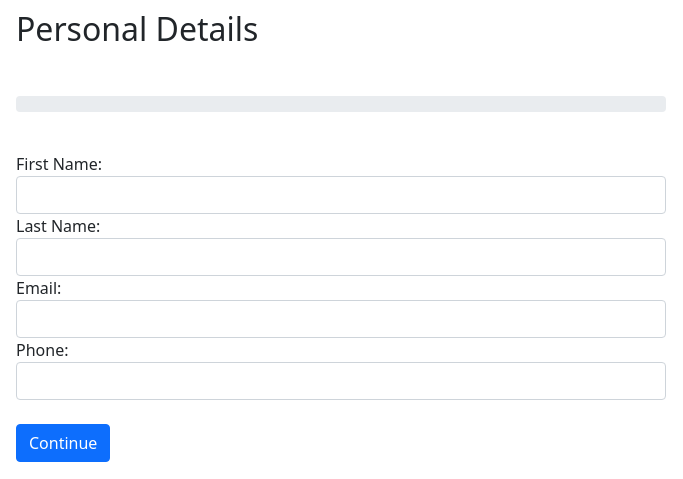
Test: page 1 success
Type "Jerry" into the field with test id "firstname-input" at [341, 195], box 16,176 -> 666,214
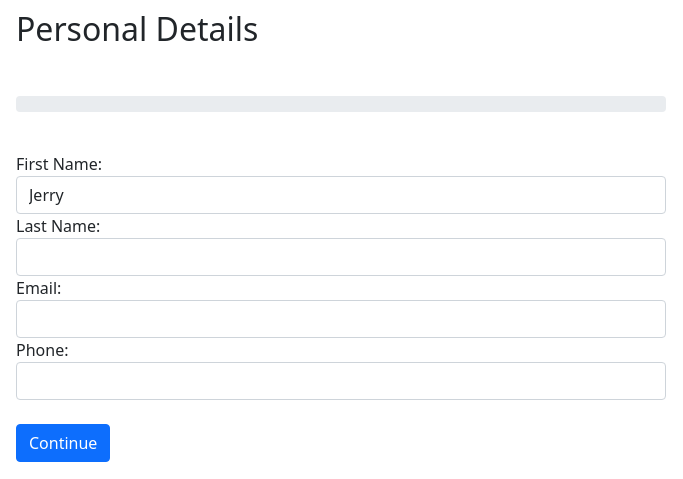
Type "Jones" into the field with test id "lastname-input" at [341, 257], box 16,238 -> 666,276
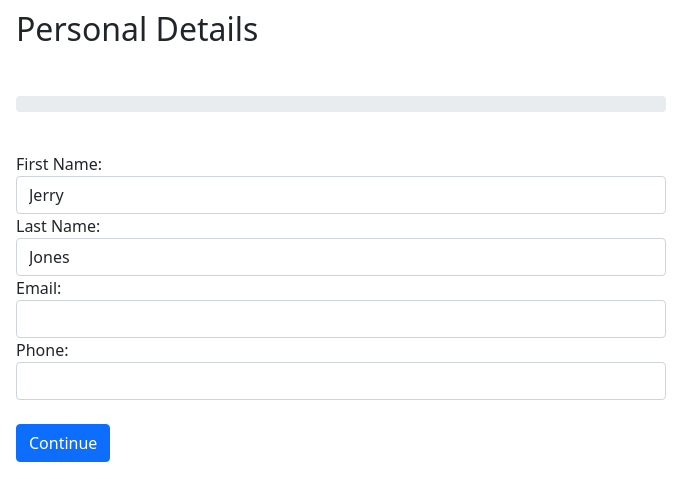
Type "jerry.jones@aabb.com" into the field with test id "email-input" at [341, 319], box 16,300 -> 666,338
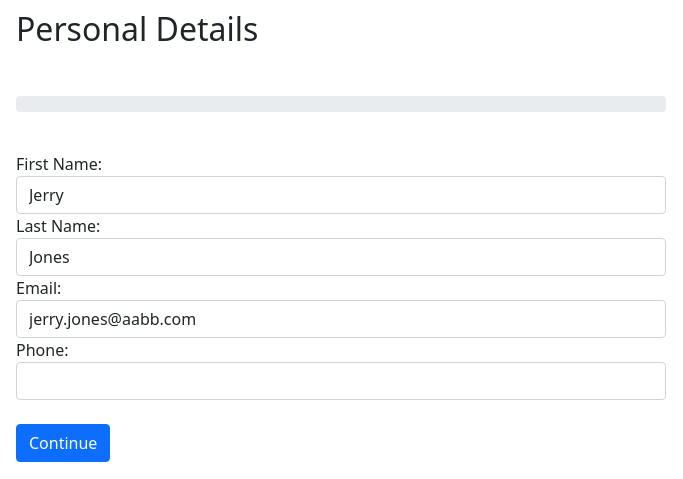
Click the button with test id "page-1-continue-btn" at [63, 443], box 16,424 -> 110,462
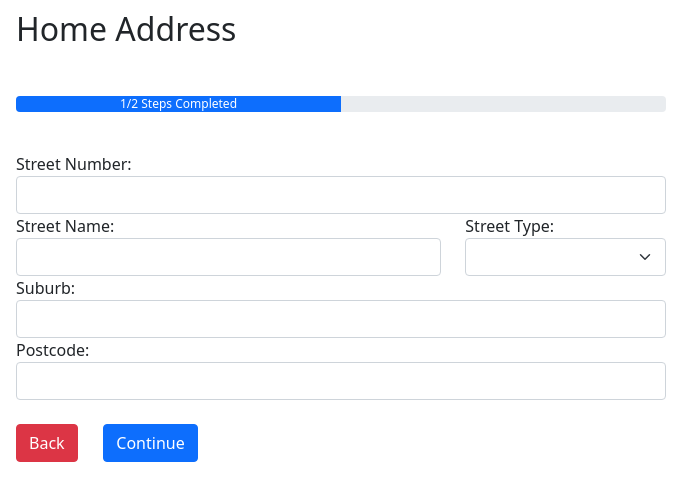
Now the field with test id "streetnumber-input" is shown, box 16,176 -> 666,214
